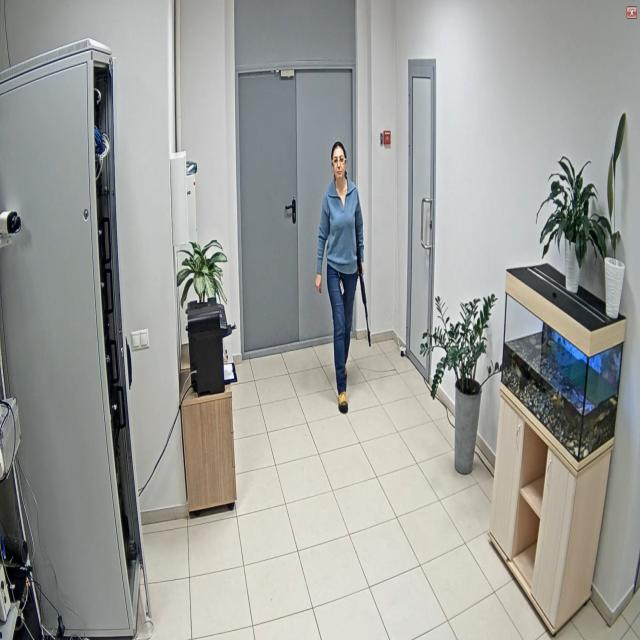-Gun: (357, 237, 371, 348)
